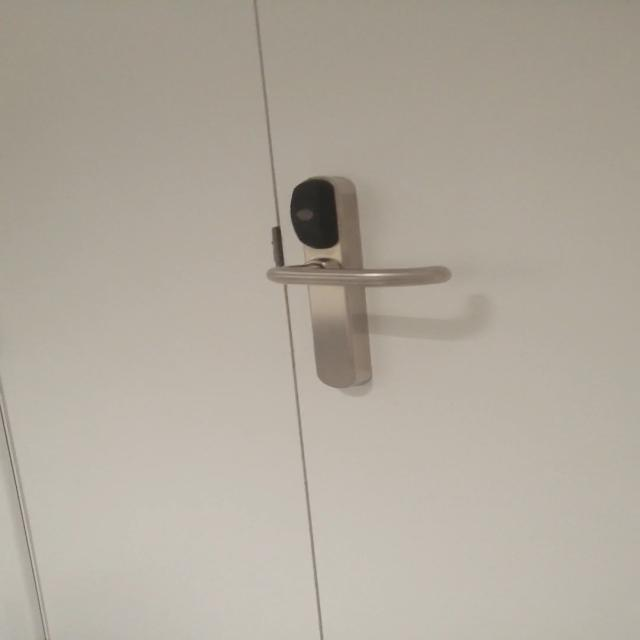door_handle: (258, 257, 460, 291)
